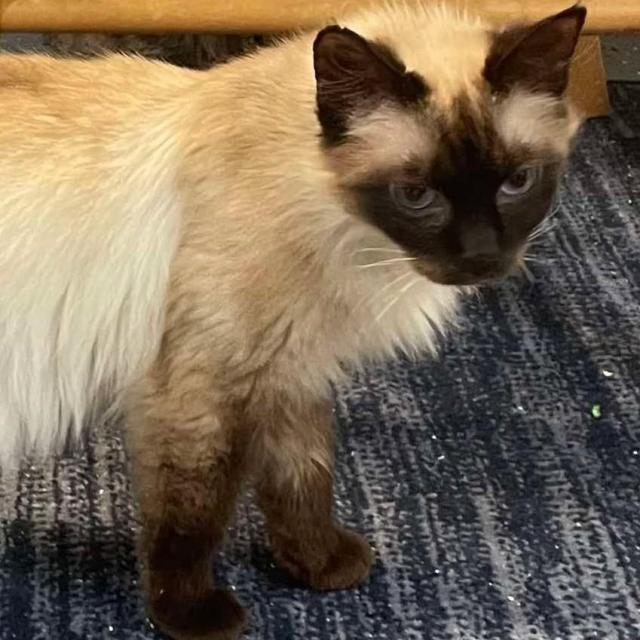siamese_cat: (290, 1, 593, 318)
